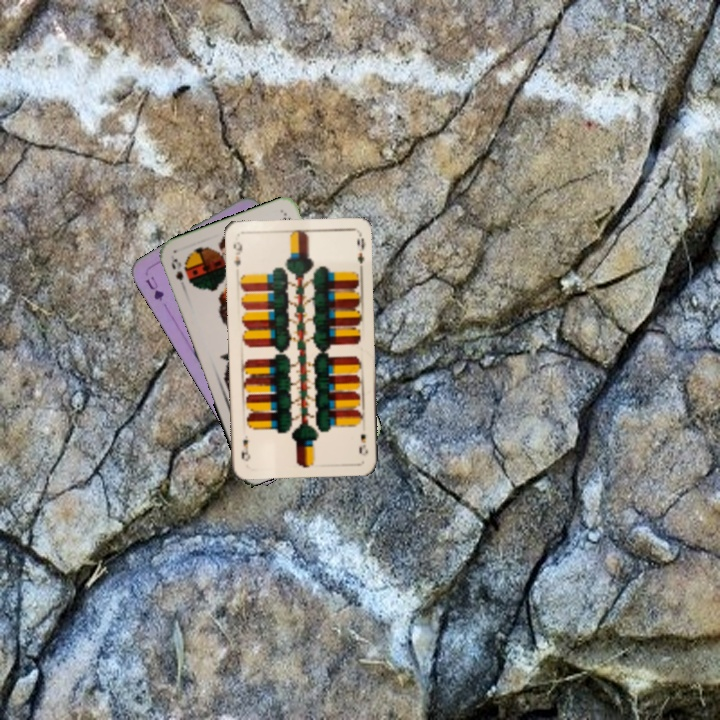E9: (229, 237, 245, 269), (355, 430, 371, 456)
GU: (141, 272, 166, 303)
SO: (167, 254, 186, 283)
